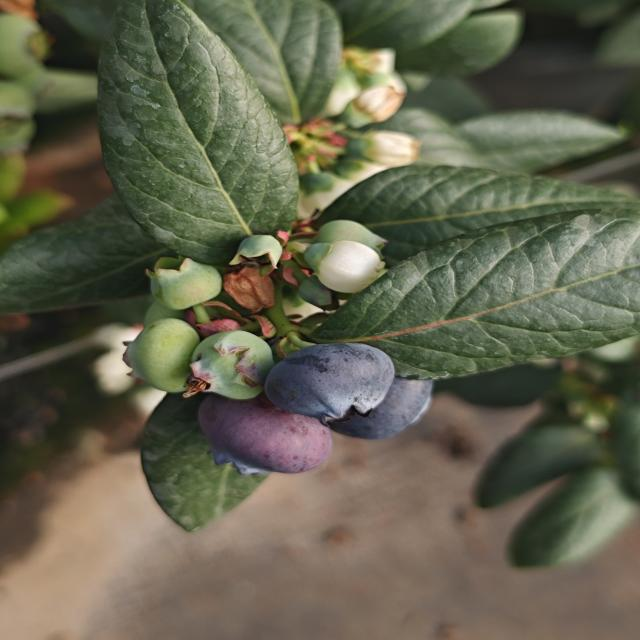ripe: (194, 394, 334, 478), (262, 340, 398, 425), (318, 360, 450, 445)
